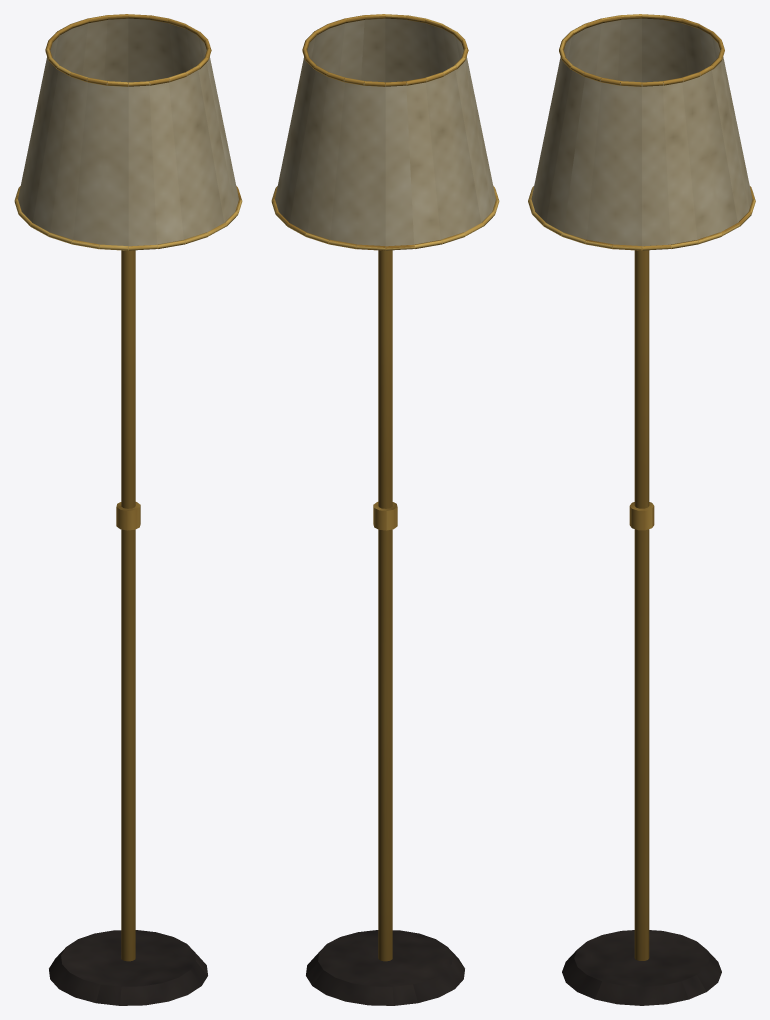
Rendered from floor_lamp.glb.
3 views of the same model, side by side, from view 1: azimuth 30°, elevation 25°; view 2: azimuth 150°, elevation 25°; view 3: azimuth 270°, elevation 25° (orthographic).
Parts seen in each view (by area): view 1: floor_lamp; view 2: floor_lamp; view 3: floor_lamp.
Boxes of the visible parts, box(x1,y1,x2,y2) form: floor_lamp: box(14, 14, 242, 1005); floor_lamp: box(271, 14, 499, 1005); floor_lamp: box(528, 14, 755, 1005).
Size of the model in its own units: 0.3693 by 1.65 by 0.3699.
4 materials, 3 textured.
